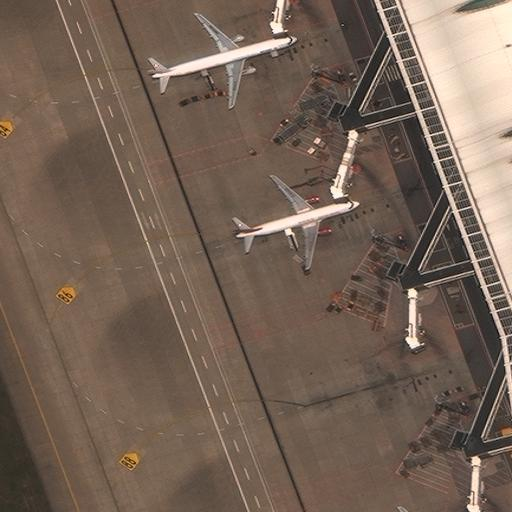Medium Civil Transport: (150, 11, 297, 107), (233, 173, 360, 268)
